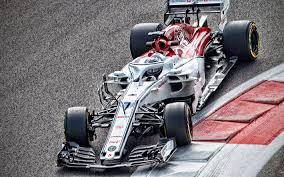FormulaOneCar: (56, 1, 262, 173)
